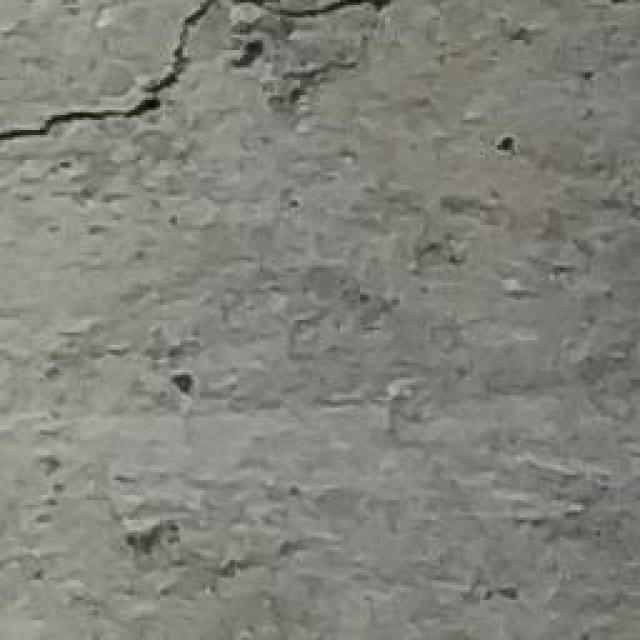Transverse: (10, 0, 426, 167)
